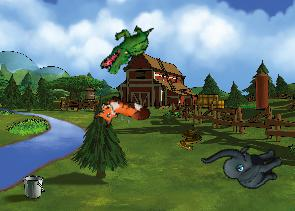crocodile: (98, 14, 155, 83)
elephant: (200, 123, 288, 206)
fox: (91, 89, 152, 140)
